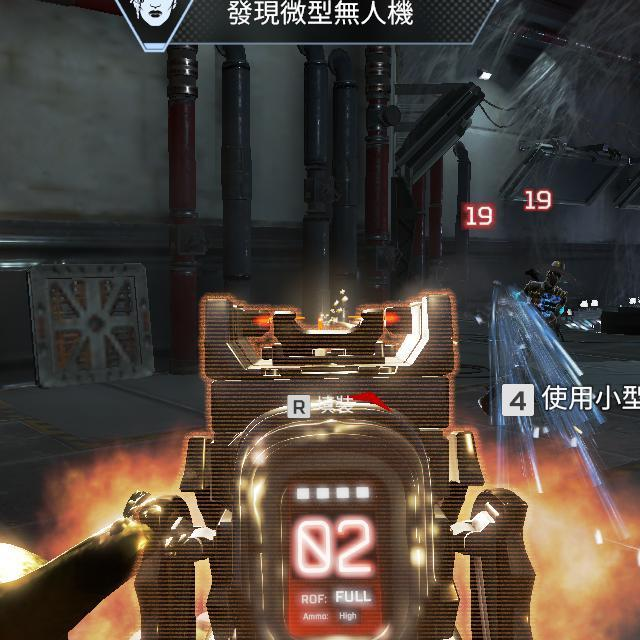avatar: (514, 256, 573, 340)
